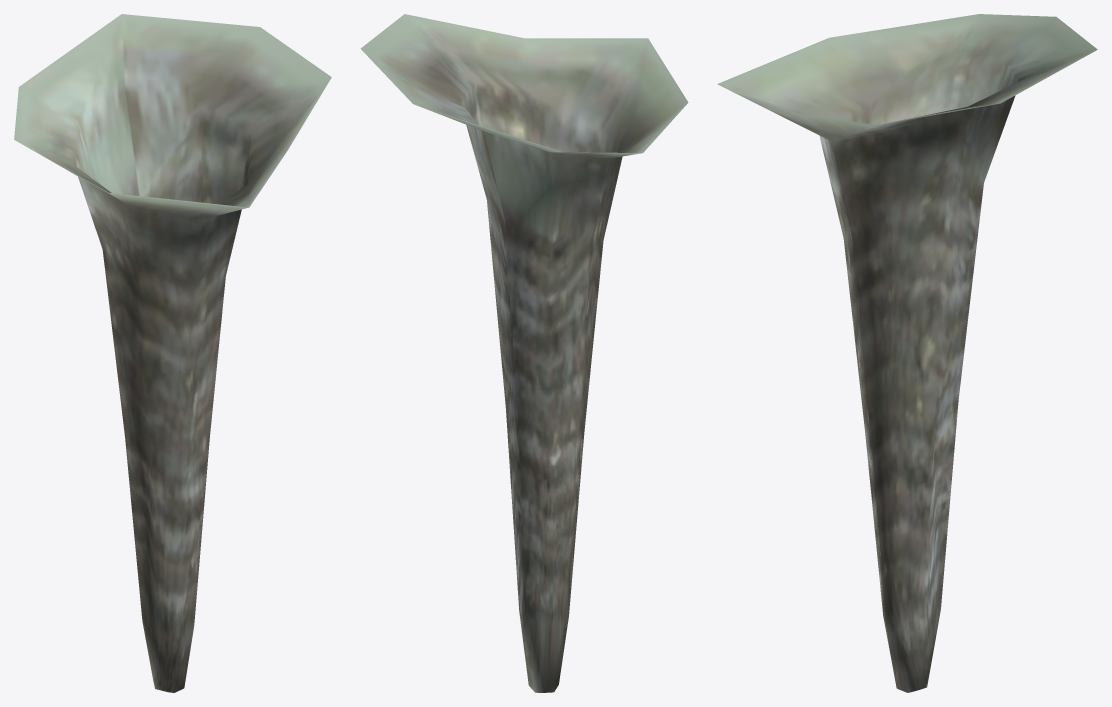
The model's file is TROLLHOLE02_PS-MAINSTALAG67.fbx.
3 renders of one model, left to right at view 1: azimuth 30°, elevation 25°; view 2: azimuth 150°, elevation 25°; view 3: azimuth 270°, elevation 25°, orthographic. The views are drawn at different scales.
Parts seen in each view (by area): view 1: TROLLHOLE02_PS-MAINSTALAG67; view 2: TROLLHOLE02_PS-MAINSTALAG67; view 3: TROLLHOLE02_PS-MAINSTALAG67.
Part boxes in pixels (box(x1,y1,x2,y2)): TROLLHOLE02_PS-MAINSTALAG67: box(14, 14, 331, 692); TROLLHOLE02_PS-MAINSTALAG67: box(360, 14, 688, 692); TROLLHOLE02_PS-MAINSTALAG67: box(717, 14, 1097, 692).
Bounding box in the file's own units: 19402 × 41509 × 21624.
Materials: 1 (1 with a texture image).
